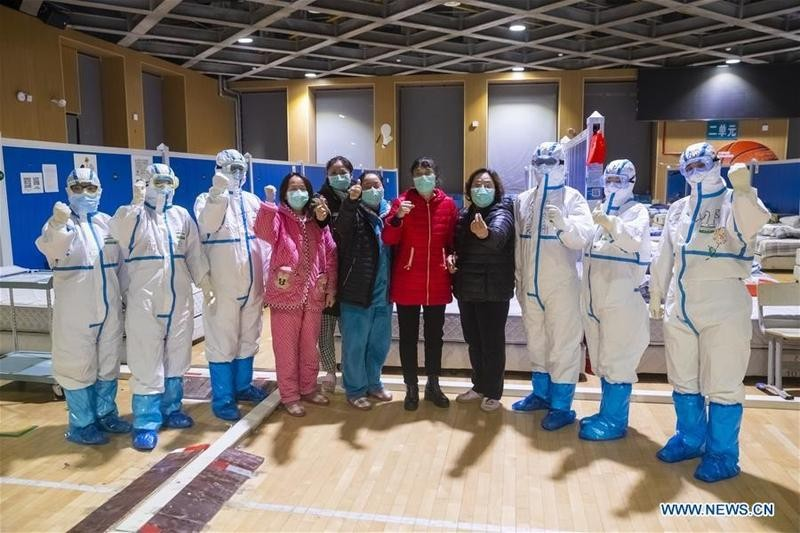Coverall: (653, 141, 770, 406), (30, 165, 125, 393), (108, 162, 203, 388), (510, 141, 595, 388), (192, 147, 273, 362), (581, 157, 650, 386)
Gloves: (726, 162, 770, 239), (541, 203, 565, 231), (51, 199, 70, 229), (592, 209, 614, 234), (647, 290, 665, 320), (210, 172, 232, 196)
Goggles: (675, 152, 715, 176), (598, 171, 631, 189), (530, 153, 564, 169), (145, 173, 179, 189)
with_mask: (684, 153, 718, 190), (467, 171, 495, 211), (67, 182, 98, 215), (147, 175, 174, 212), (531, 154, 562, 185), (359, 176, 383, 211), (602, 173, 626, 205), (286, 179, 308, 212), (410, 167, 432, 199), (220, 164, 245, 192), (326, 164, 350, 190)
